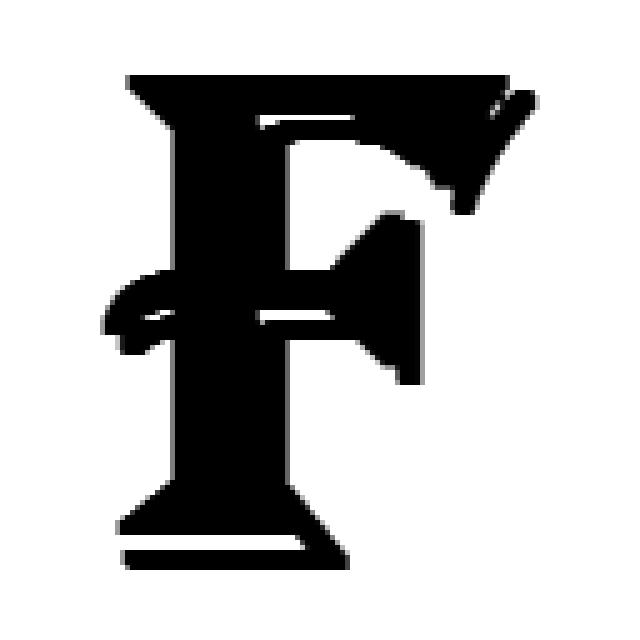F: (113, 79, 535, 571)
